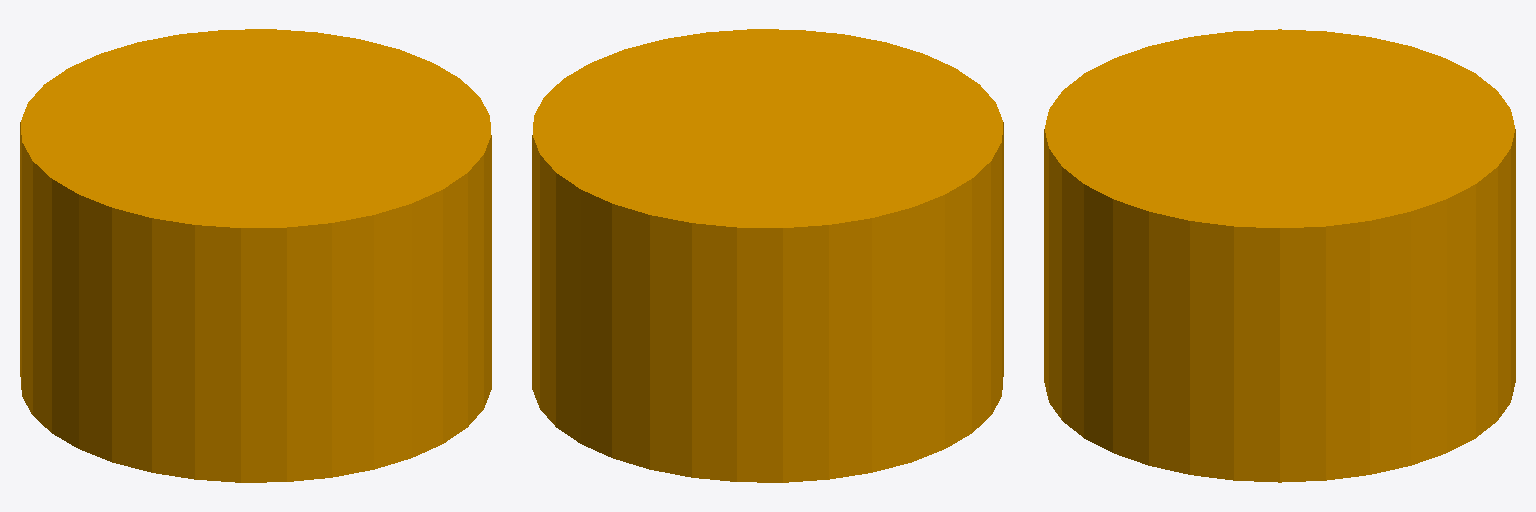
The robot description file, URDF, robot "object":
<?xml version="1.0"?>
<!-- Auto-generated by tools/gen_primitive_objects.py. kind=cyl dims=(0.042, 0.05) -->
<robot name="object">
  <link name="object">
    <visual>
      <origin xyz="0 0 0"/>
      <geometry>
        <cylinder radius="0.042000" length="0.050000"/>
      </geometry>
    </visual>
    <collision>
      <origin xyz="0 0 0"/>
      <geometry>
        <cylinder radius="0.042000" length="0.050000"/>
      </geometry>
    </collision>
    <inertial>
      <mass value="0.055418"/>
      <inertia ixx="0.00003598" ixy="0.0" ixz="0.0" iyy="0.00003598" iyz="0.0" izz="0.00004888"/>
    </inertial>
  </link>
</robot>

--- Facts derived from the render (not from the file) ---
Views: 3 orthographic renders of the robot side by side, from view 1: azimuth 30°, elevation 25°; view 2: azimuth 150°, elevation 25°; view 3: azimuth 270°, elevation 25°.
Robot: object — 1 links, 0 joints (none); root link object; default pose: every joint at zero.
Links seen in each view (by area): view 1: object; view 2: object; view 3: object.
Link boxes in pixels (x1,y1,x2,y2): object: (20,29,491,482); object: (532,29,1003,482); object: (1044,29,1515,482).
Size in the robot's own frame: 0.084 by 0.084 by 0.05 metres.
Geometry: primitives only (box / cylinder / sphere), no mesh files.
